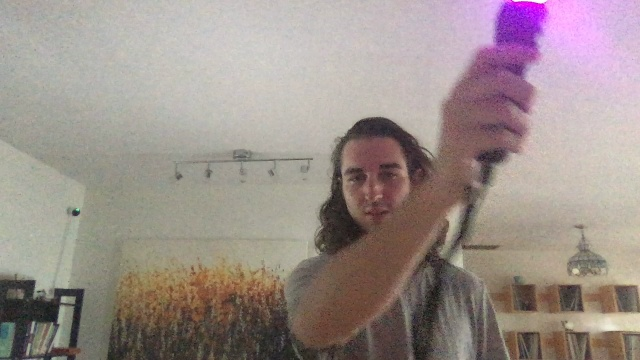wand: (506, 1, 547, 5)
